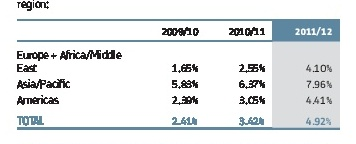table: (0, 0, 356, 144)
